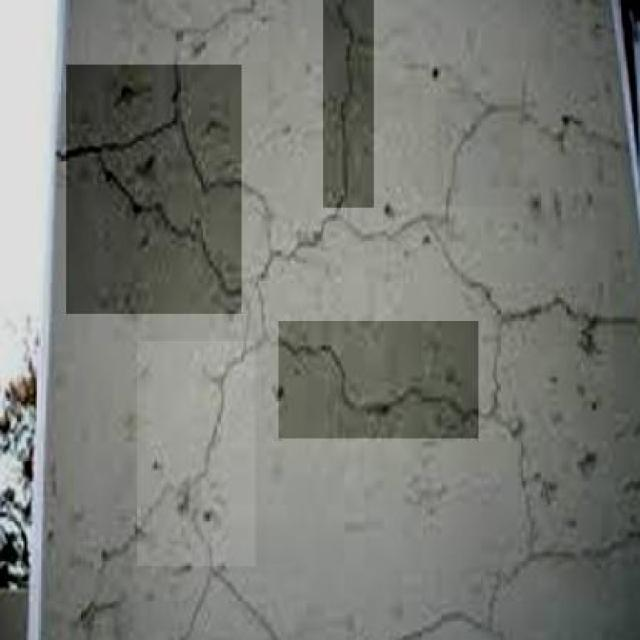SurfaceCrack: (74, 58, 264, 324), (124, 354, 236, 640), (292, 318, 522, 426), (456, 82, 634, 198), (506, 514, 640, 592), (526, 294, 628, 376)
